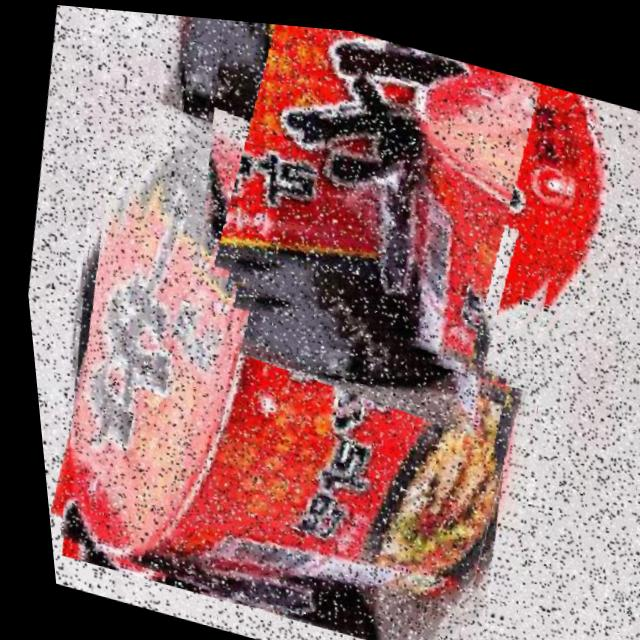Miscellaneous: (11, 89, 579, 640), (168, 11, 606, 388)
